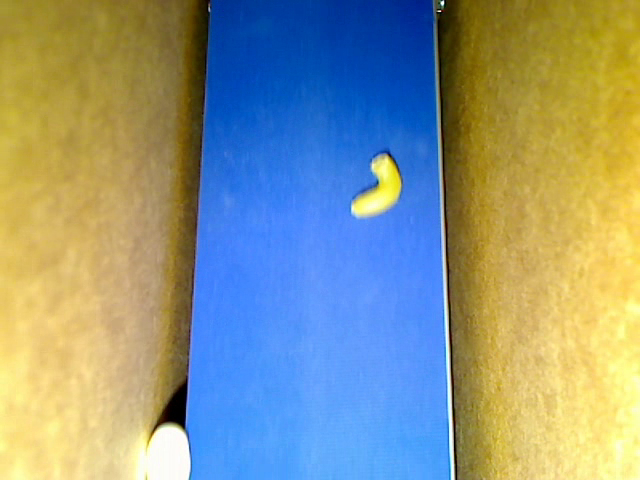elbow: (350, 151, 402, 219)
